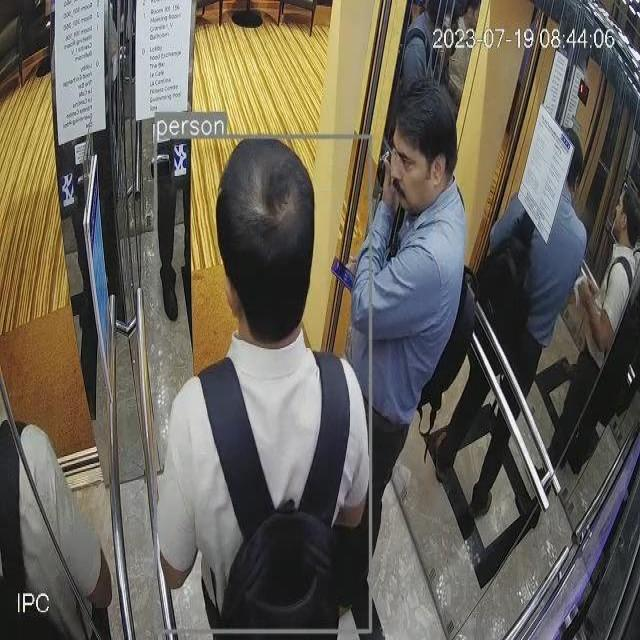person: (155, 136, 368, 628), (330, 76, 469, 625), (0, 201, 130, 611)
